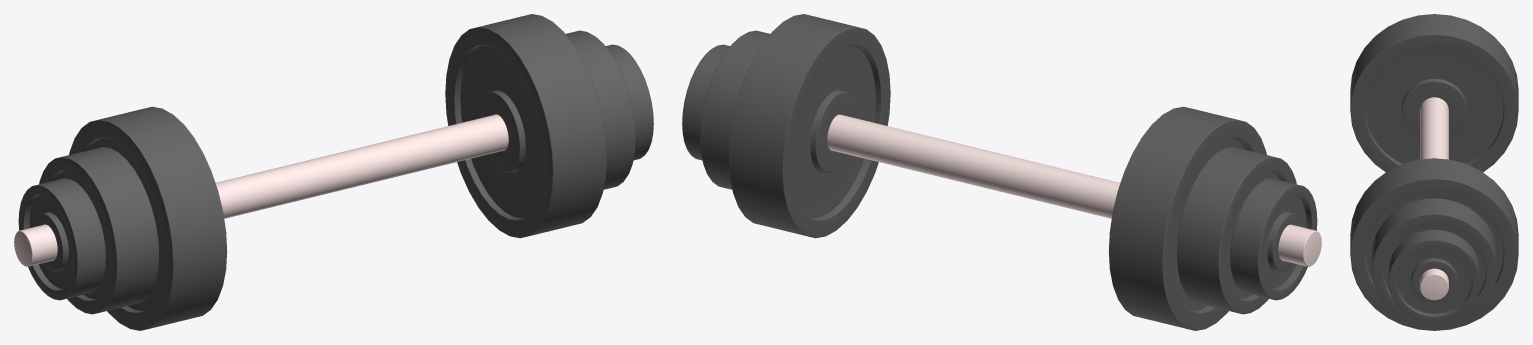
File: Public_18_Barbell_1.glb
3 views of the same model, side by side, from view 1: azimuth 30°, elevation 25°; view 2: azimuth 150°, elevation 25°; view 3: azimuth 270°, elevation 25° (orthographic). The views are drawn at different scales.
Visible parts, largest first — view 1: Public_18_Barbell_1; view 2: Public_18_Barbell_1; view 3: Public_18_Barbell_1.
Part boxes in pixels (<box>): Public_18_Barbell_1: <box>14,14,653,330</box>; Public_18_Barbell_1: <box>682,14,1321,330</box>; Public_18_Barbell_1: <box>1350,14,1518,330</box>.
Size of the model in its own units: 5.78 by 1.76 by 1.76.
1 material, 1 textured.
